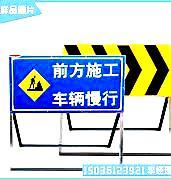sign: (9, 56, 124, 112)
